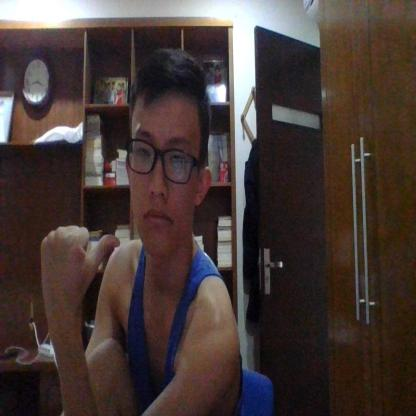left: (41, 222, 121, 308)
